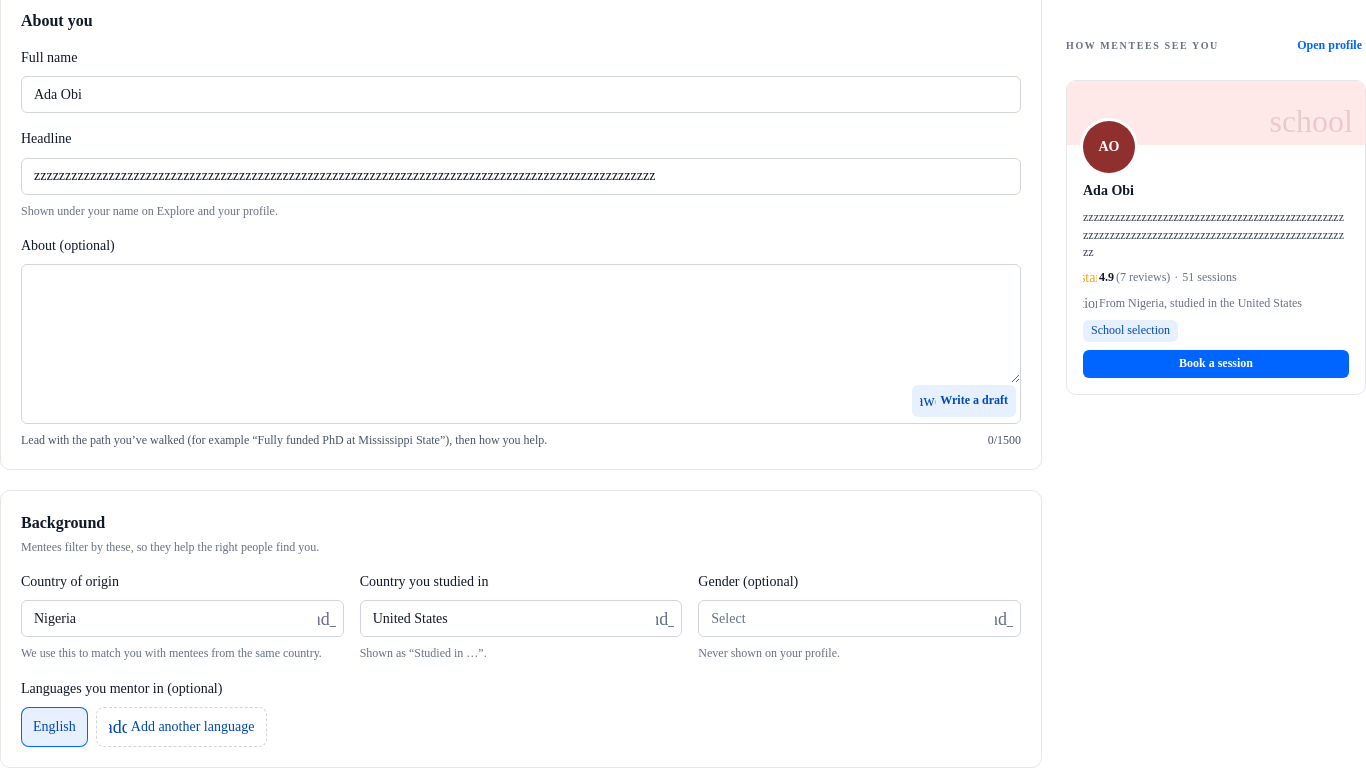
Test: MentorProfilePanel › an unchanged older headline over 80 still saves with other changes
The image size is (1366, 768).
(page scrolled)
Click the dropdown named "Gender (optional)" at (728,618), box [698,600,1021,637]
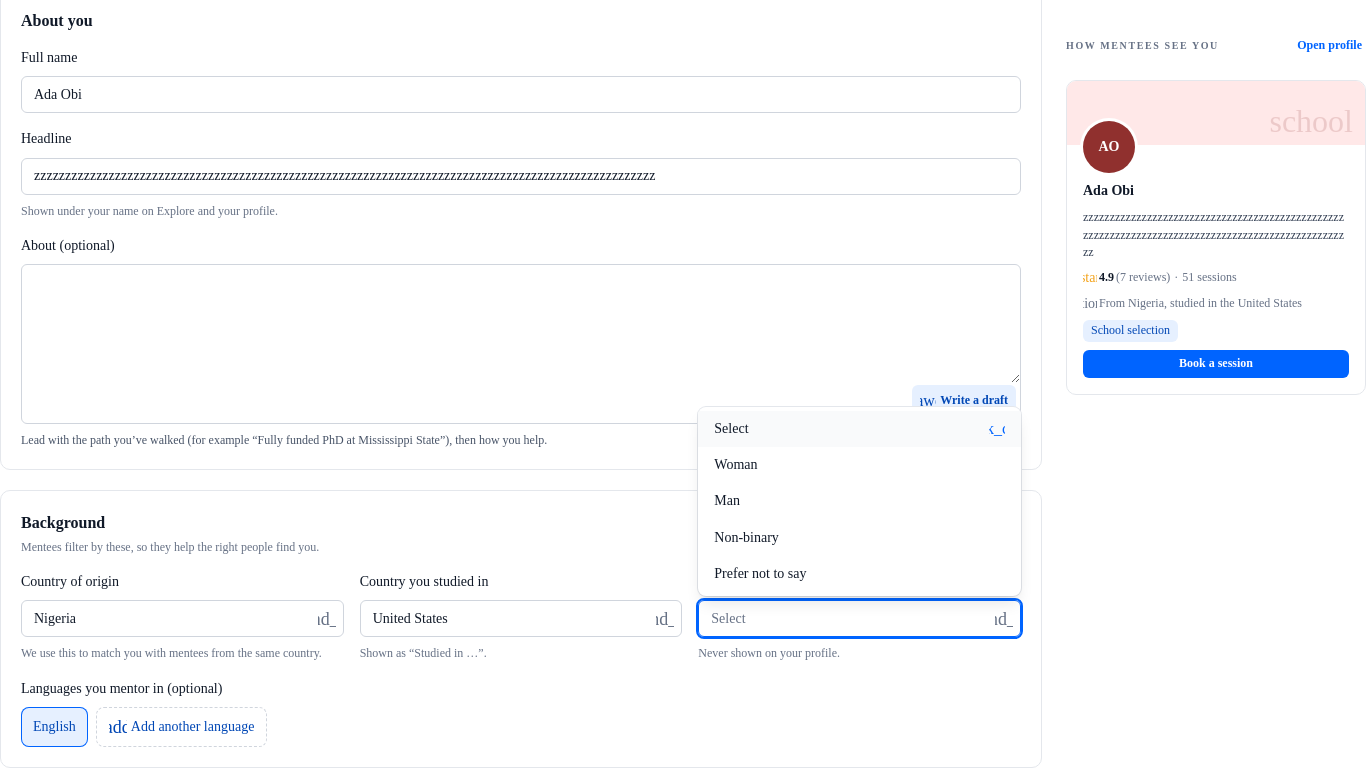
Click the option "Woman" at (736,464), box [714,457,758,472]
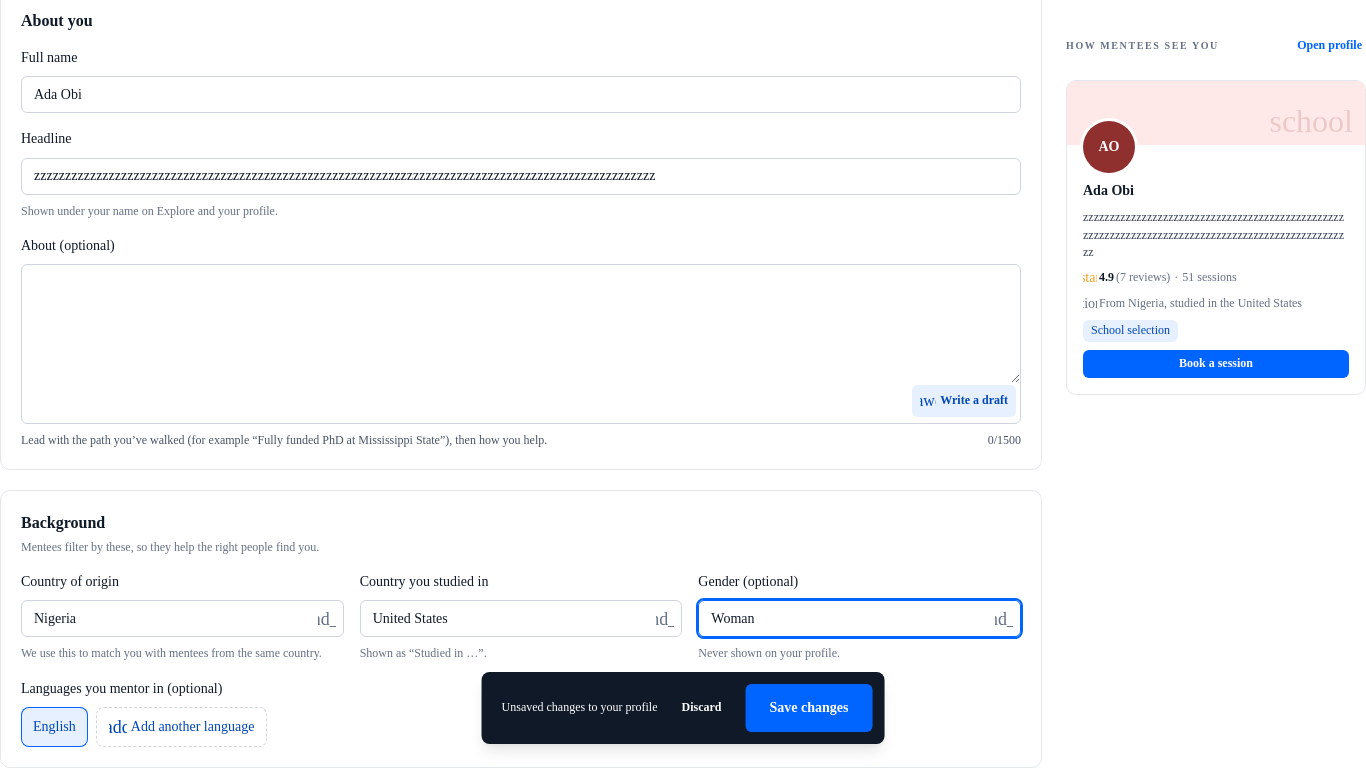
Click the button "Save changes" at (809,708), box [746,684,872,732]
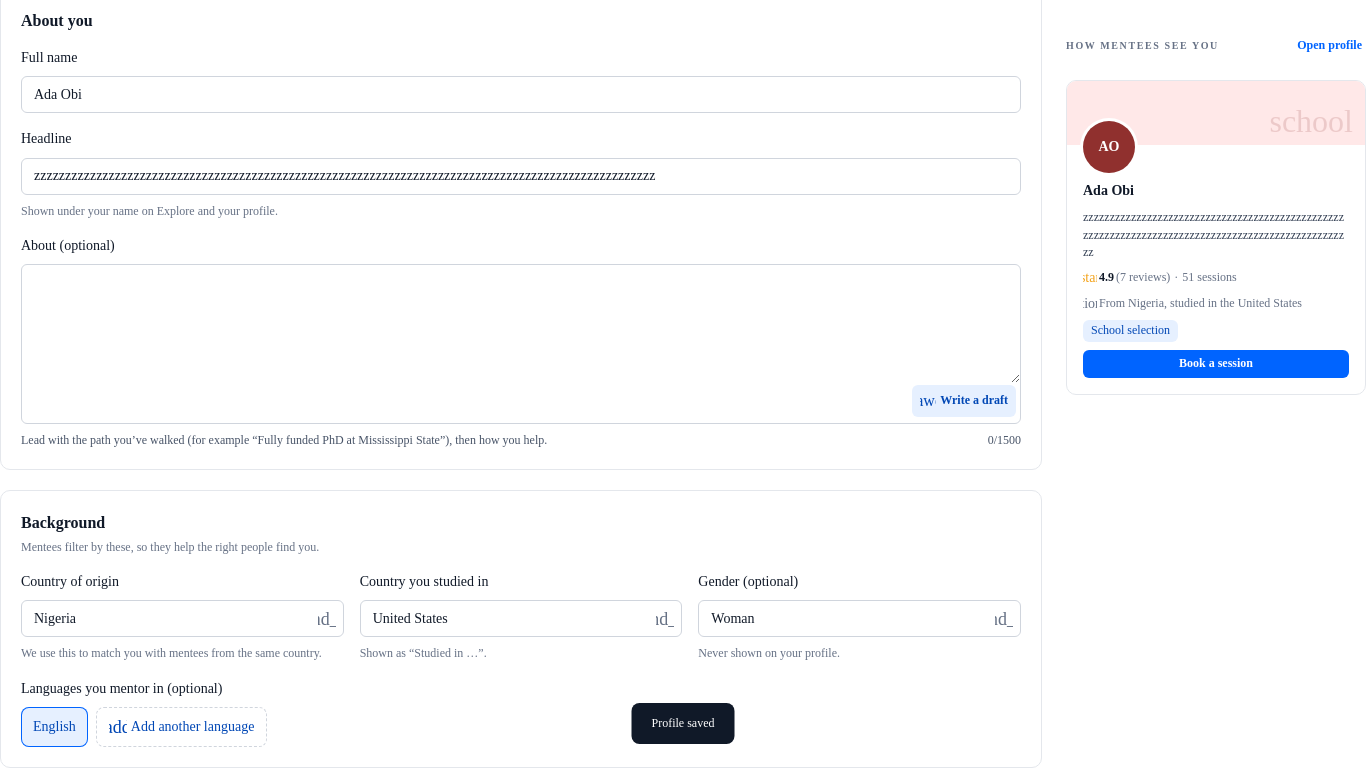
Result: the text "Profile saved" is shown at [632,703,734,744]
